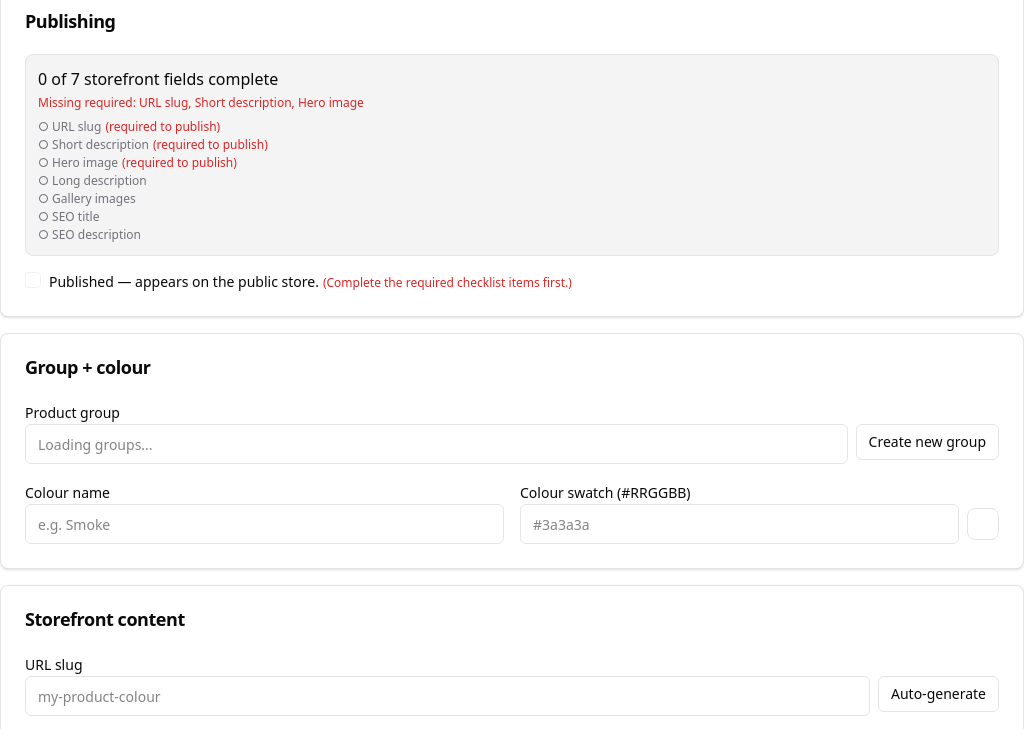
<StorefrontTab /> — publish-checklist gate › enables the Published checkbox once slug + short description + hero image are all set
In the field labelled "URL slug": (448, 696) [25, 676, 870, 716], type "aurora-smoke"
(page scrolled)
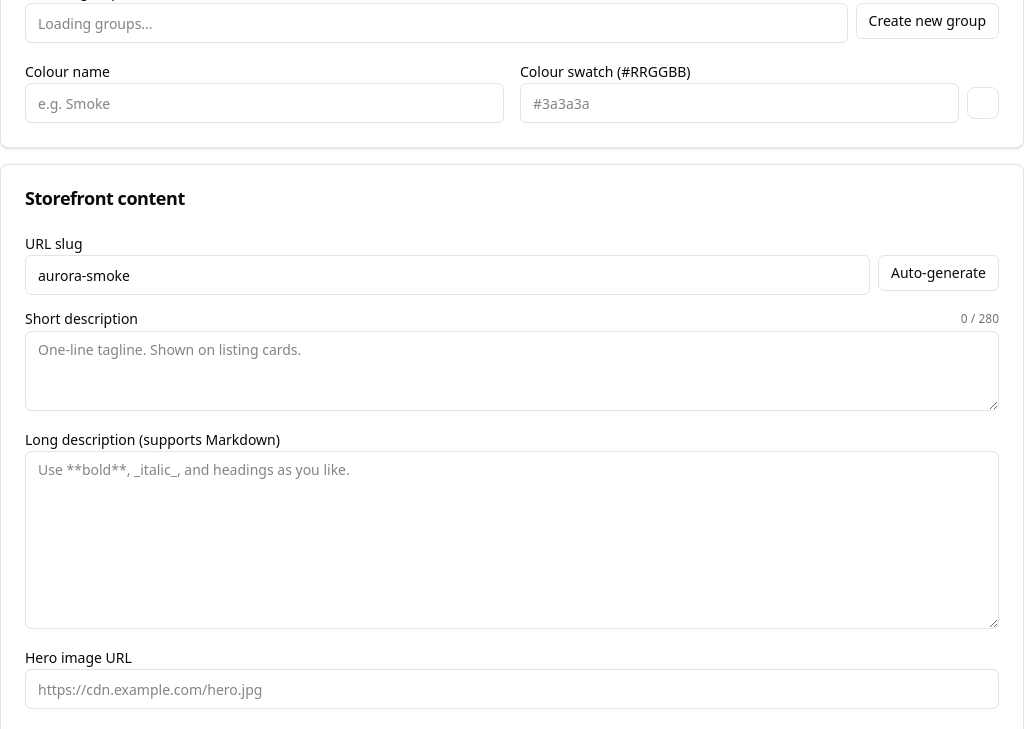
In the text box labelled "Short description": (512, 371) [25, 331, 999, 411], type "A short tagline."
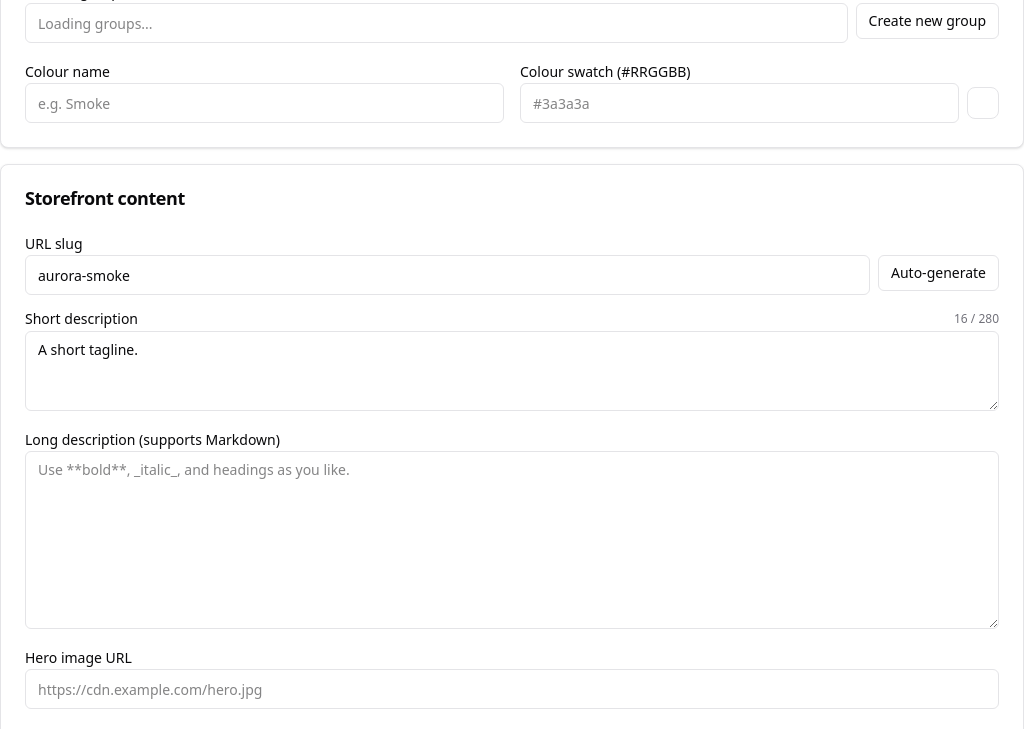
In the field labelled "Hero image URL": (512, 689) [25, 669, 999, 709], type "https://example.com/hero.jpg"
(page scrolled)
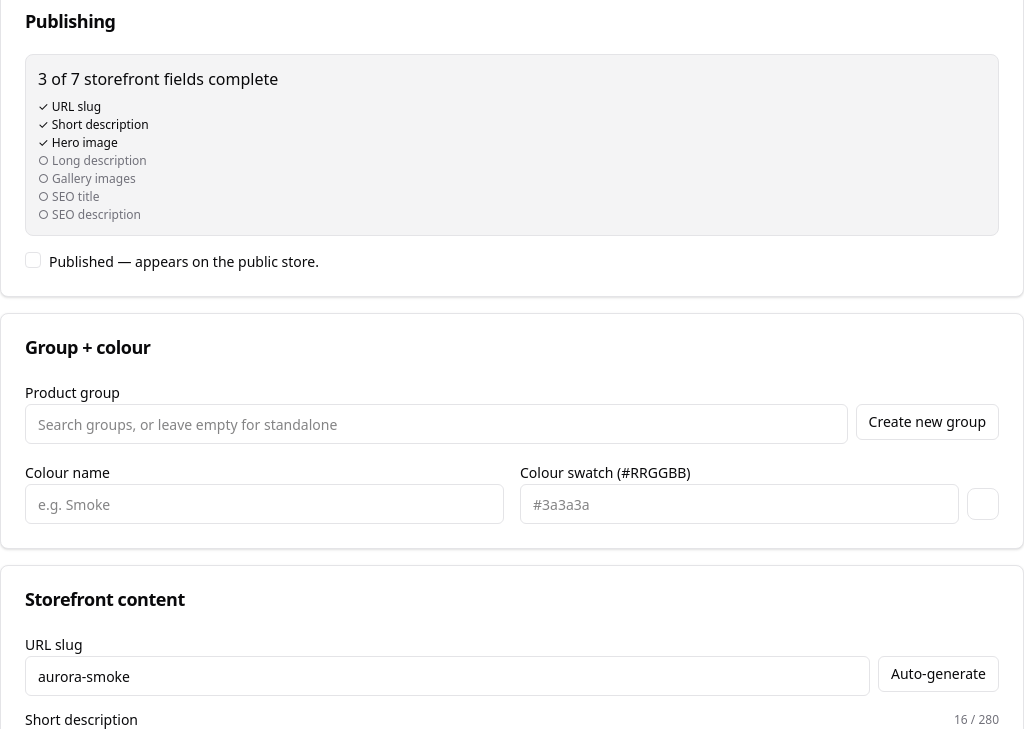
Expected: the checkbox named "Published" is enabled, [25, 252, 41, 268]
